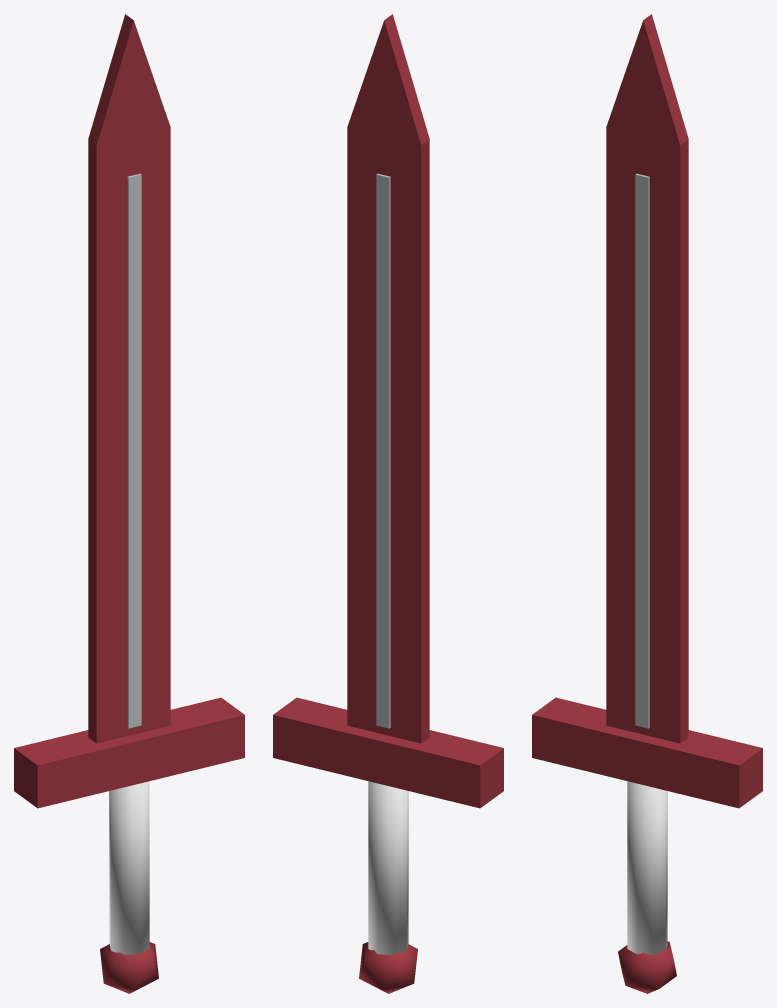
File: crimtane_broadsword.glb
3 renders of one model, left to right at view 1: azimuth 30°, elevation 25°; view 2: azimuth 150°, elevation 25°; view 3: azimuth 330°, elevation 25°, orthographic.
Visible parts, largest first — view 1: sanguite_broadsword_v0; view 2: sanguite_broadsword_v0; view 3: sanguite_broadsword_v0.
Part boxes in pixels (<box>): sanguite_broadsword_v0: <box>14,14,244,993</box>; sanguite_broadsword_v0: <box>273,14,503,993</box>; sanguite_broadsword_v0: <box>532,14,762,993</box>.
Bounding box in the file's own units: 0.252 × 1.13 × 0.0595.
